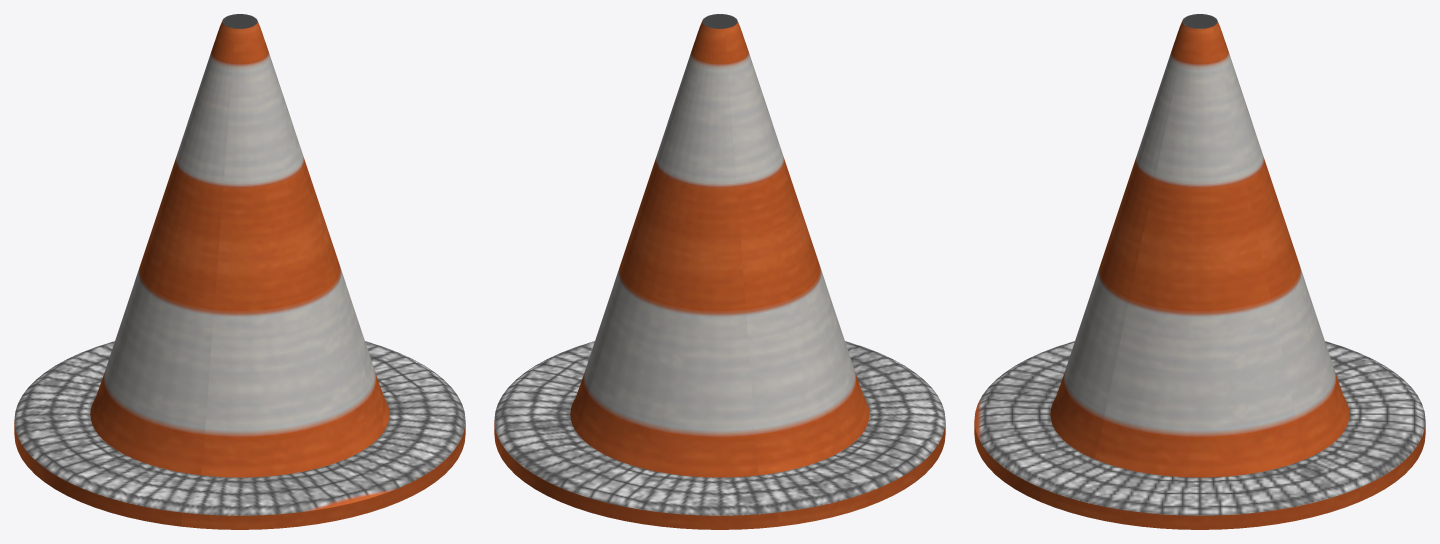
Rendered from street part 3.fbx.
3 renders of one model, left to right at view 1: azimuth 30°, elevation 25°; view 2: azimuth 150°, elevation 25°; view 3: azimuth 270°, elevation 25°, orthographic.
Parts seen in each view (by area): view 1: Object_22; view 2: Object_22; view 3: Object_22.
Part boxes in pixels (left/top/right/bottom): Object_22: left=14, top=14, right=465, bottom=529; Object_22: left=494, top=14, right=945, bottom=529; Object_22: left=974, top=14, right=1425, bottom=529.
Bounding box in the file's own units: 56.47 × 57.07 × 56.47.
1 material, 1 textured.
